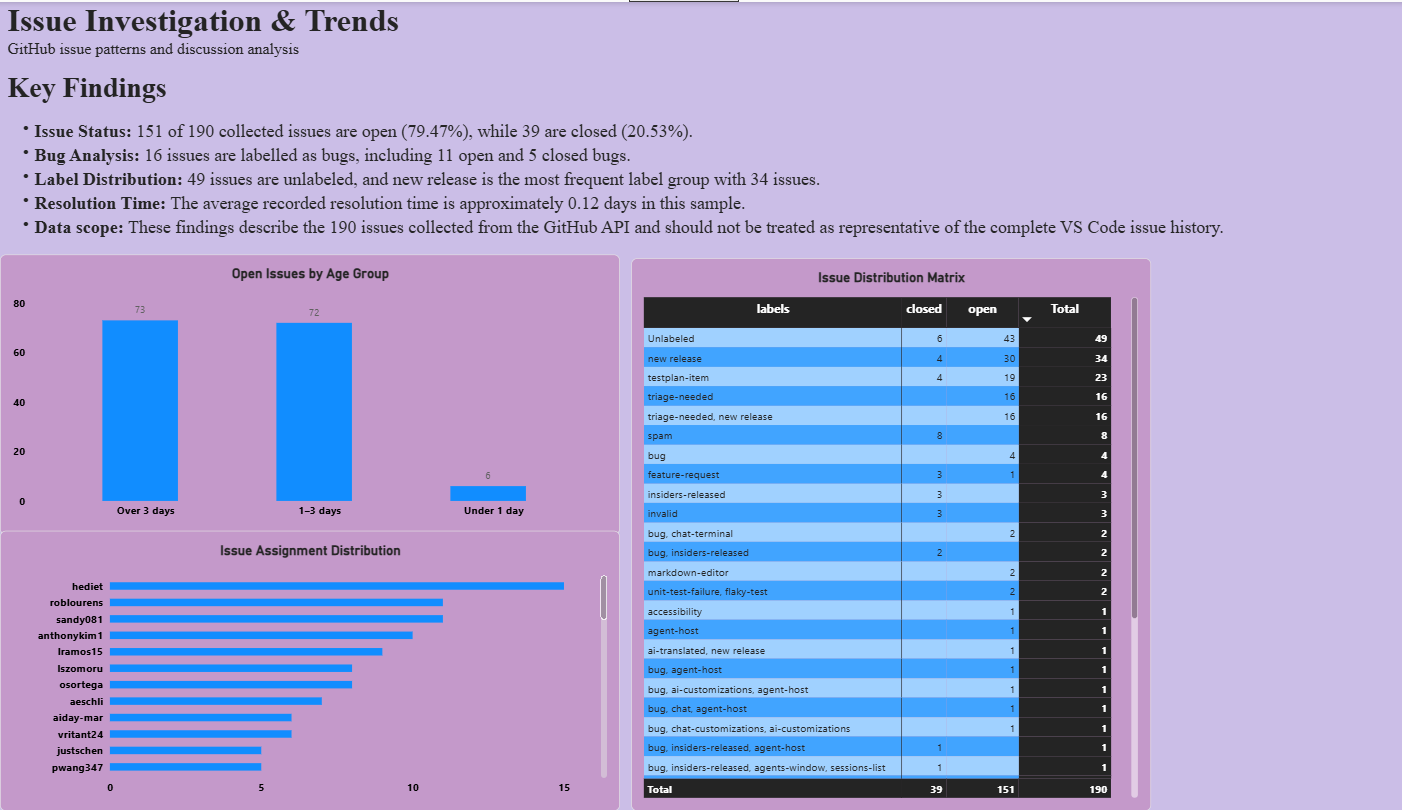

Layout of this report page (visuals, bound fields, positions):
{"tool":"powerbi","page":{"name":"Insights & Analysis","canvas":[1920,1080],"ordinal":1},"visuals":[{"type":"textbox","box":[10,0,1722,338],"z":0},{"type":"clusteredColumnChart","title":"Open Issues by Age Group","fields":{"Category":["github_issues_cleaned.Issue Age Group"],"Y":["CountNonNull(github_issues_cleaned.issue_id)"]},"box":[0,338,828,374],"z":1000},{"type":"barChart","title":"Issue Assignment Distribution","fields":{"Category":["github_issues_cleaned.assignees"],"Y":["CountNonNull(github_issues_cleaned.issue_id)"]},"box":[0,706,828,374],"z":2000},{"type":"pivotTable","title":"Issue Distribution Matrix","fields":{"Columns":["github_issues_cleaned.state"],"Rows":["github_issues_cleaned.labels"],"Values":["CountNonNull(github_issues_cleaned.issue_id)"]},"box":[844,342,694,738],"z":3000}]}

Visuals, with their boxes in screenshot pixels (x1, y1, x2, y2), scaled from the page's 1920x1080 canvas onto the 1402x810 screenshot:
textbox: {"left": 7, "top": 0, "right": 1265, "bottom": 254}
"Open Issues by Age Group" clusteredColumnChart: {"left": 0, "top": 254, "right": 605, "bottom": 534}
"Issue Assignment Distribution" barChart: {"left": 0, "top": 530, "right": 605, "bottom": 809}
"Issue Distribution Matrix" pivotTable: {"left": 616, "top": 256, "right": 1123, "bottom": 809}
